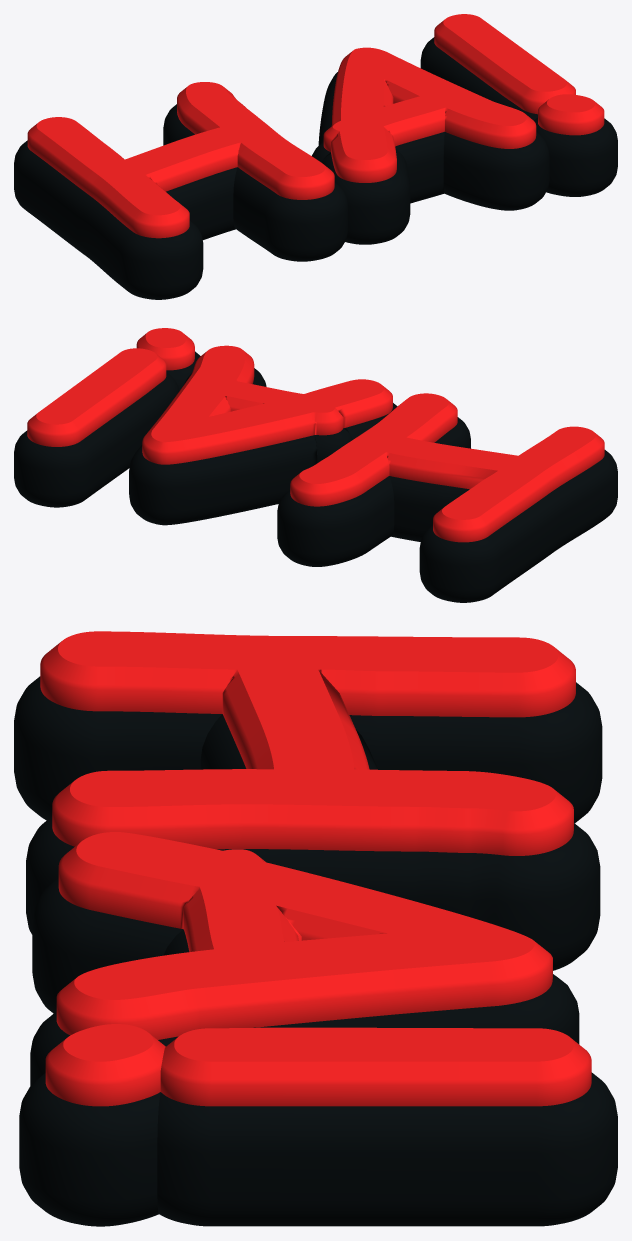
3 views of the same model, one above another, from view 1: azimuth 30°, elevation 25°; view 2: azimuth 150°, elevation 25°; view 3: azimuth 270°, elevation 25° (orthographic). The views are drawn at different scales.
Visible parts, largest first — view 1: Text.001, Text; view 2: Text.001, Text; view 3: Text.001, Text.
Boxes of the visible parts, box(x1,y1,x2,y2) form: Text.001: box(27, 14, 604, 238); Text: box(14, 37, 617, 299); Text.001: box(27, 328, 604, 542); Text: box(14, 351, 617, 602); Text.001: box(40, 631, 591, 1106); Text: box(14, 676, 617, 1226).
Size of the model in its own units: 126 by 20.2 by 68.66.
